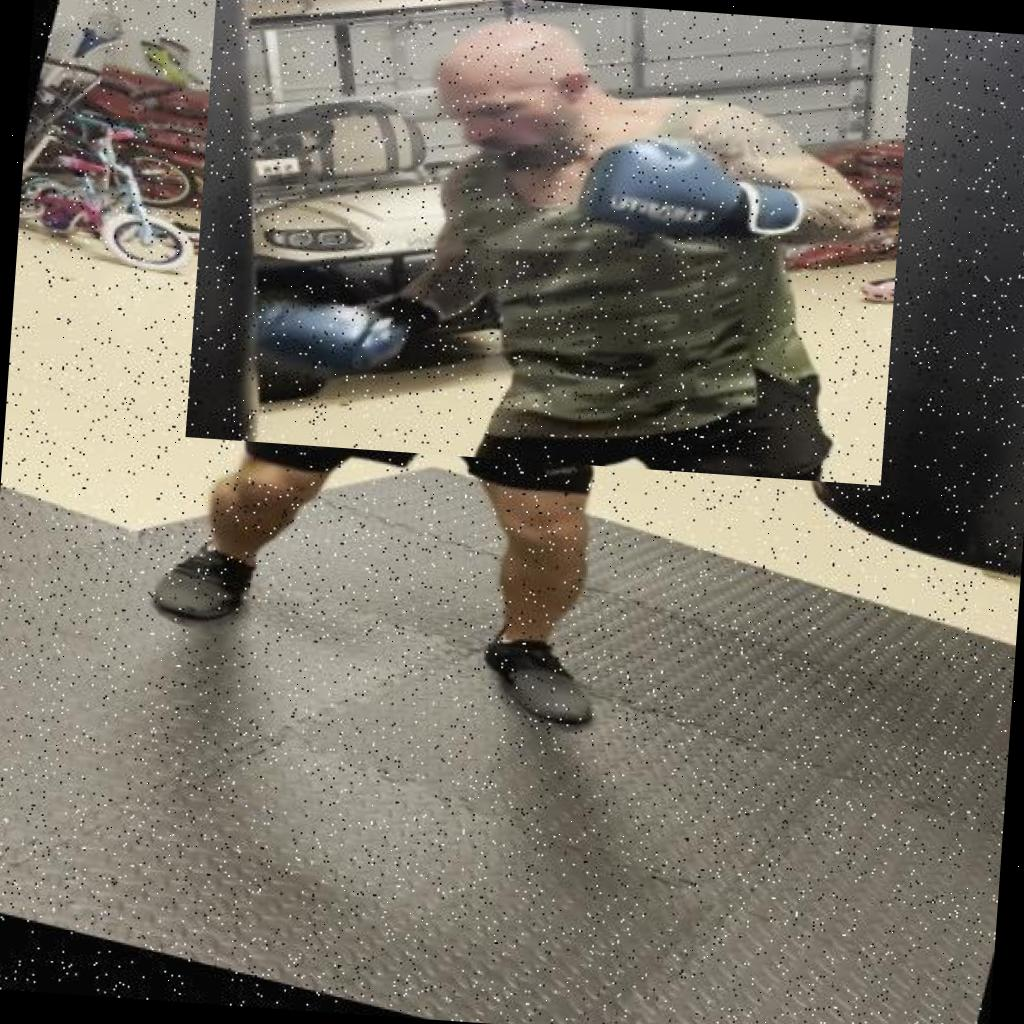bag: (723, 16, 1024, 597)
uppercut: (185, 0, 912, 485)
